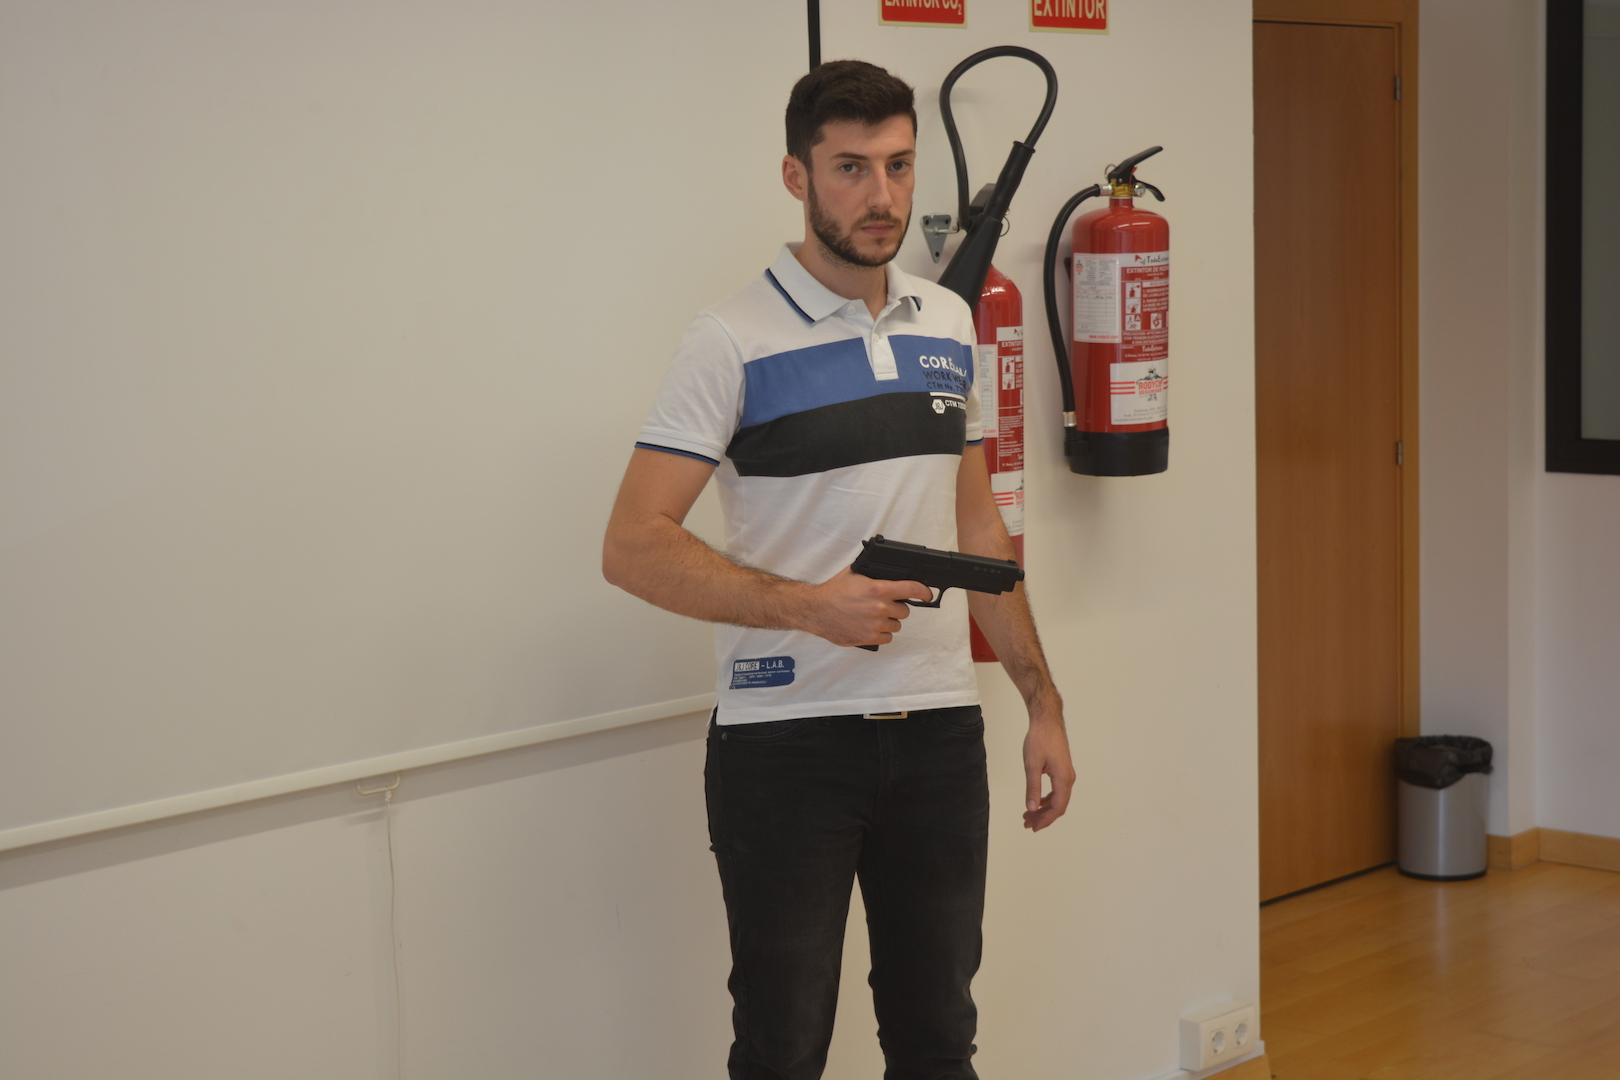pistol: (849, 533, 1026, 652)
